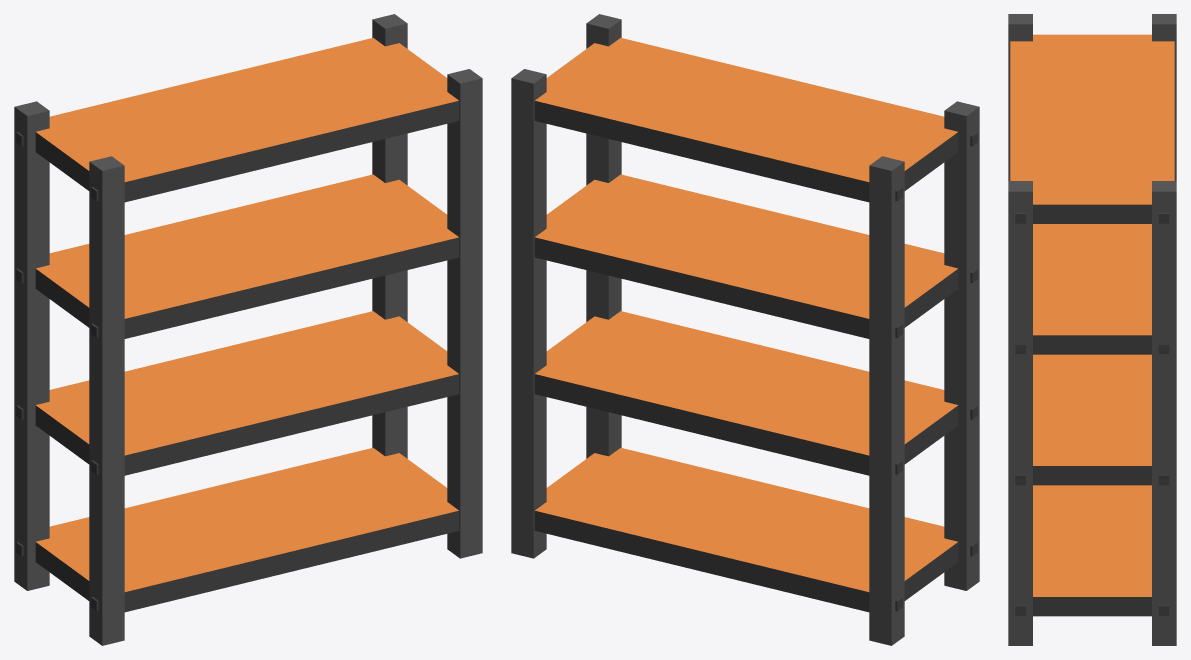
Rendered from High_Shelf.fbx.
The picture shows the model from 3 angles, left to right: view 1: azimuth 30°, elevation 25°; view 2: azimuth 150°, elevation 25°; view 3: azimuth 270°, elevation 25°; orthographic projection. The views are drawn at different scales.
Visible parts, largest first — view 1: Pillars; view 2: Pillars; view 3: Pillars.
Part boxes in pixels (left/top/right/bottom): Pillars: left=14, top=14, right=482, bottom=645; Pillars: left=511, top=14, right=979, bottom=645; Pillars: left=1008, top=14, right=1176, bottom=645.
Size of the model in its own units: 294 by 348 by 117.
